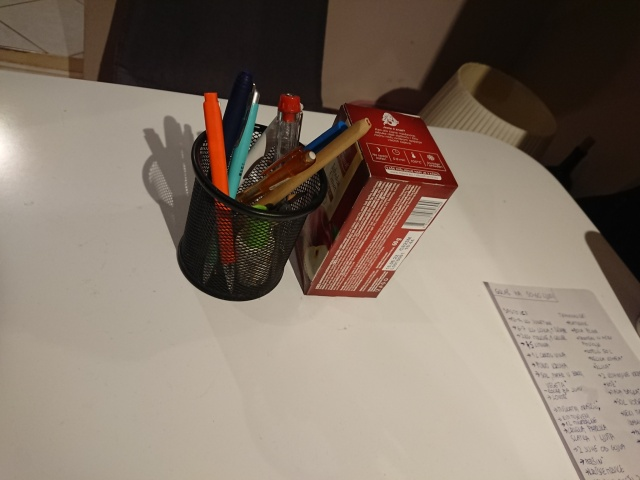Franck Apple Cinnamon Tea 60g: (269, 100, 462, 302)
